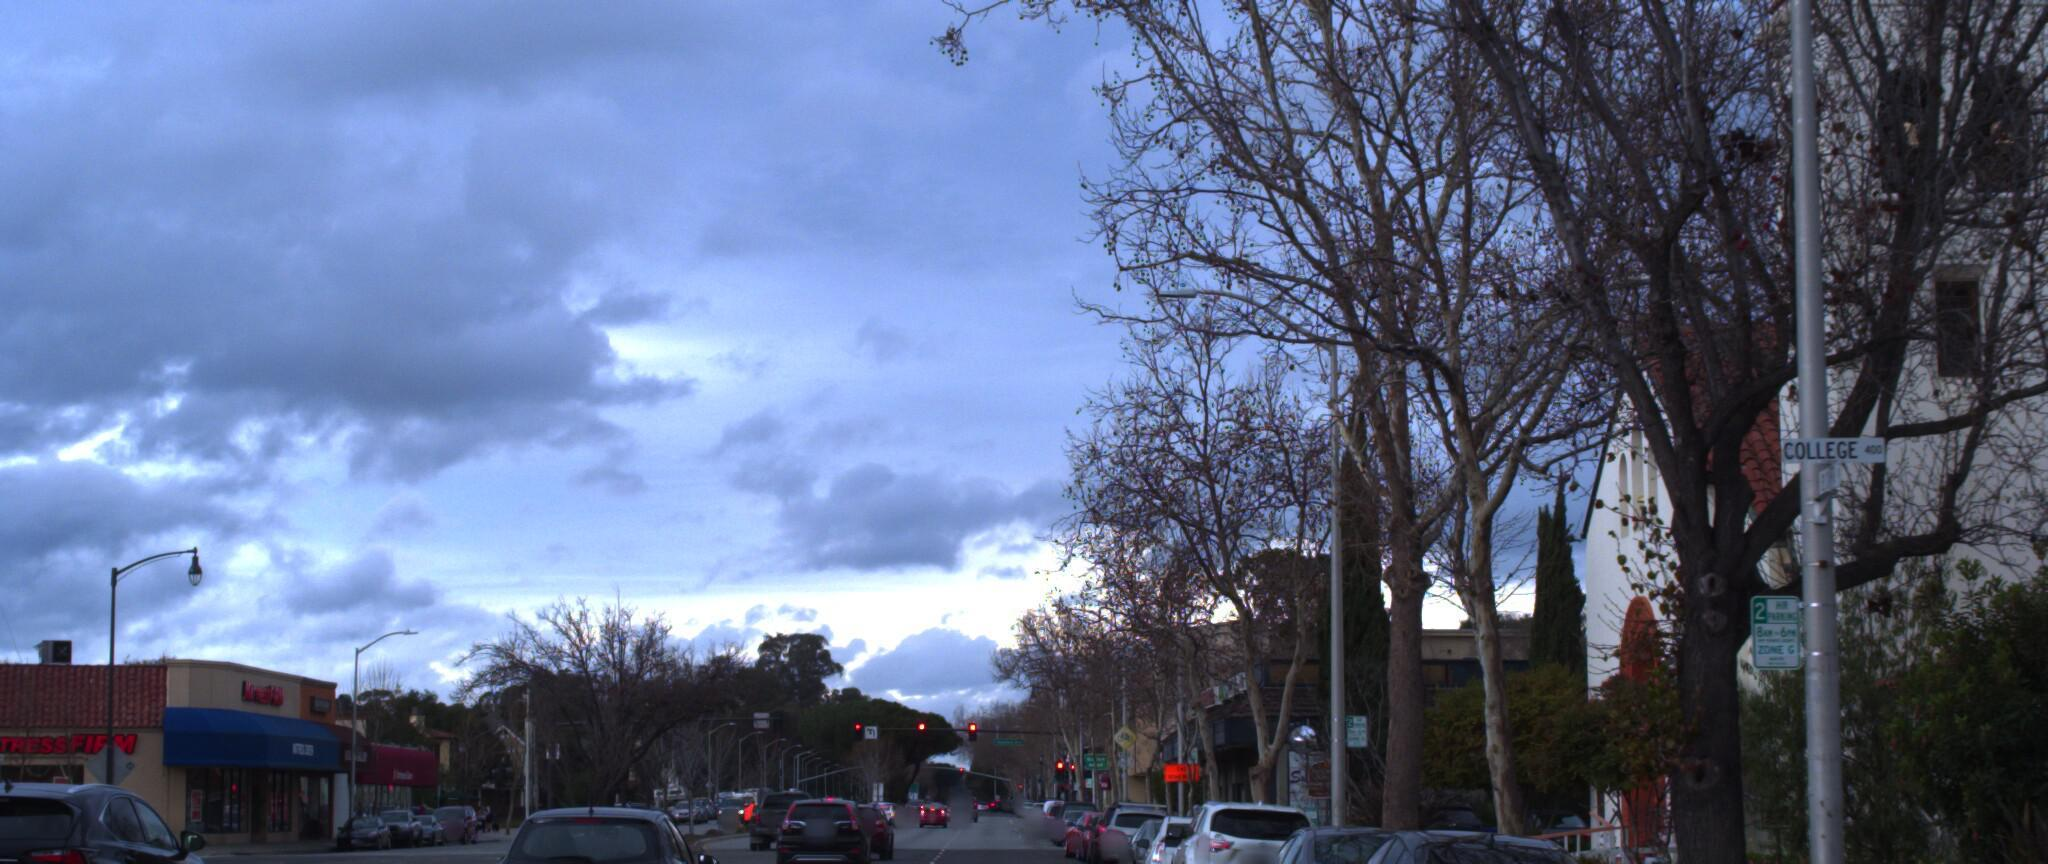car: (0, 775, 246, 864), (472, 799, 728, 864), (1296, 814, 1621, 864), (1232, 809, 1489, 864), (1162, 786, 1332, 864), (756, 783, 857, 864)
